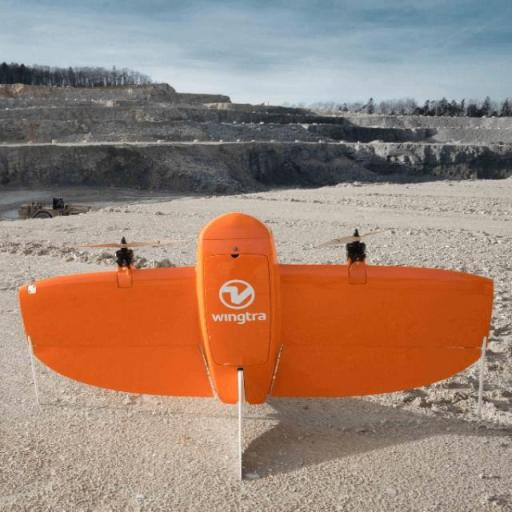uav: (18, 214, 500, 472)
